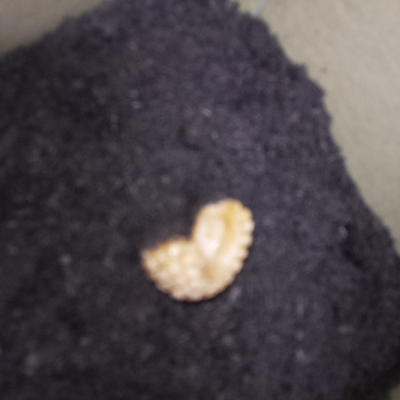eggs: (130, 192, 260, 304)
